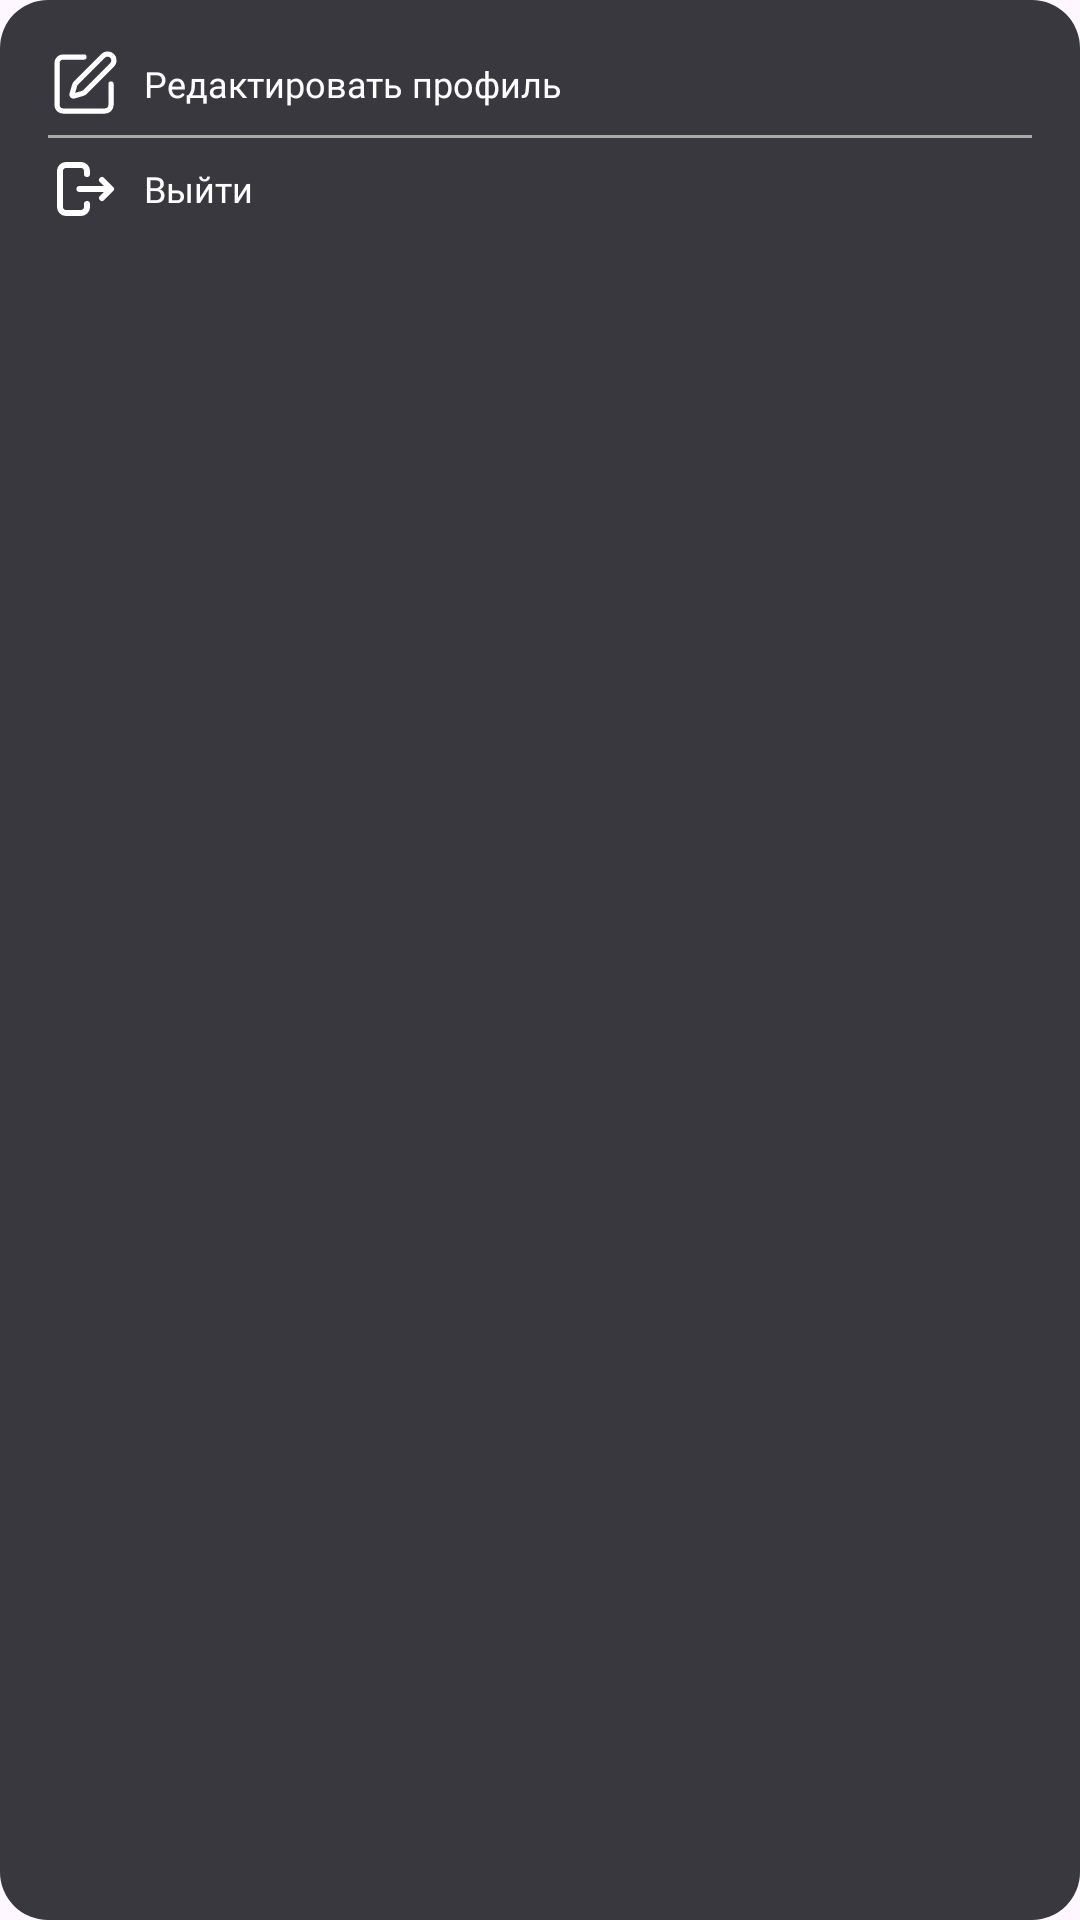

Screen size 1080×1920. Icon name, then its box in pixels as (x1, y1, x2, y2):
edit profile: (54, 51, 117, 114)
